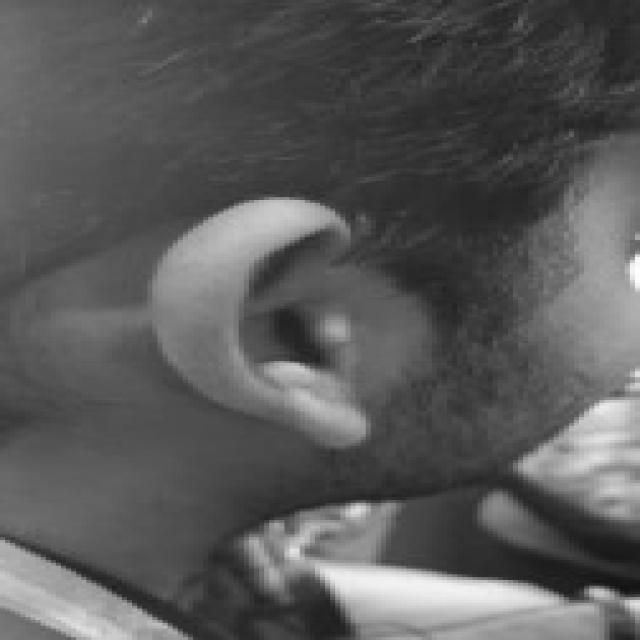ear: (163, 200, 366, 446)
